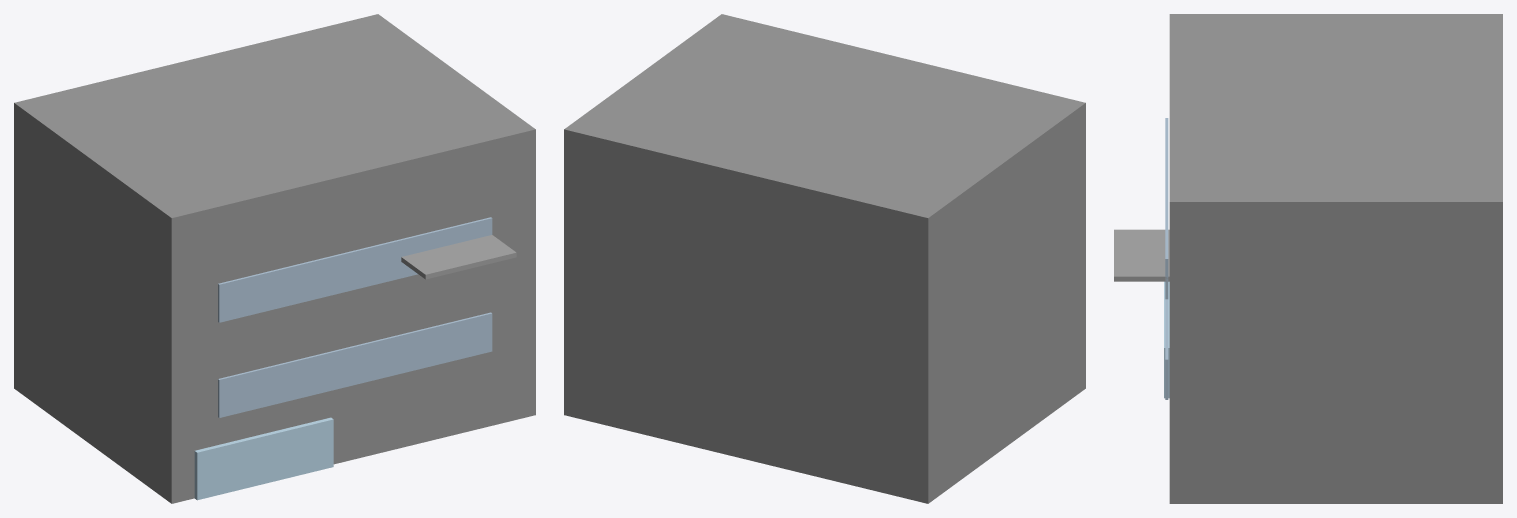
Rendered from env-mod-apartment.glb.
The picture shows the model from 3 angles, left to right: view 1: azimuth 30°, elevation 25°; view 2: azimuth 150°, elevation 25°; view 3: azimuth 270°, elevation 25°; orthographic projection. The views are drawn at different scales.
Bounding box in the file's own units: 8 × 6 × 7.
